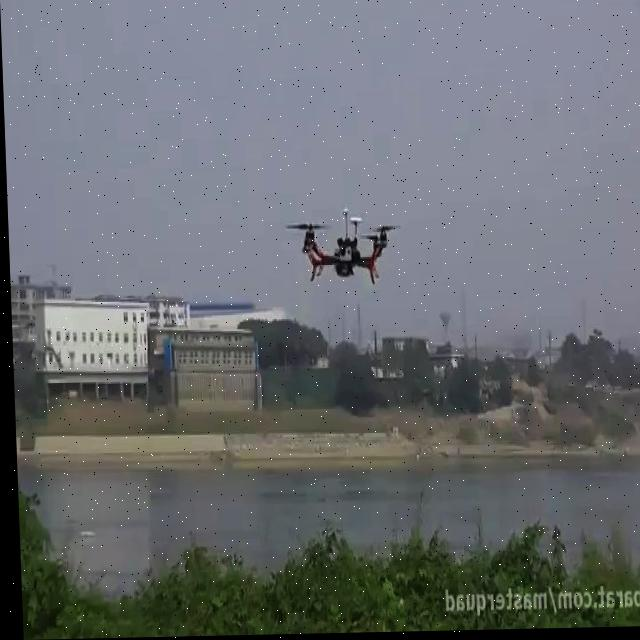drone: (279, 204, 406, 293)
